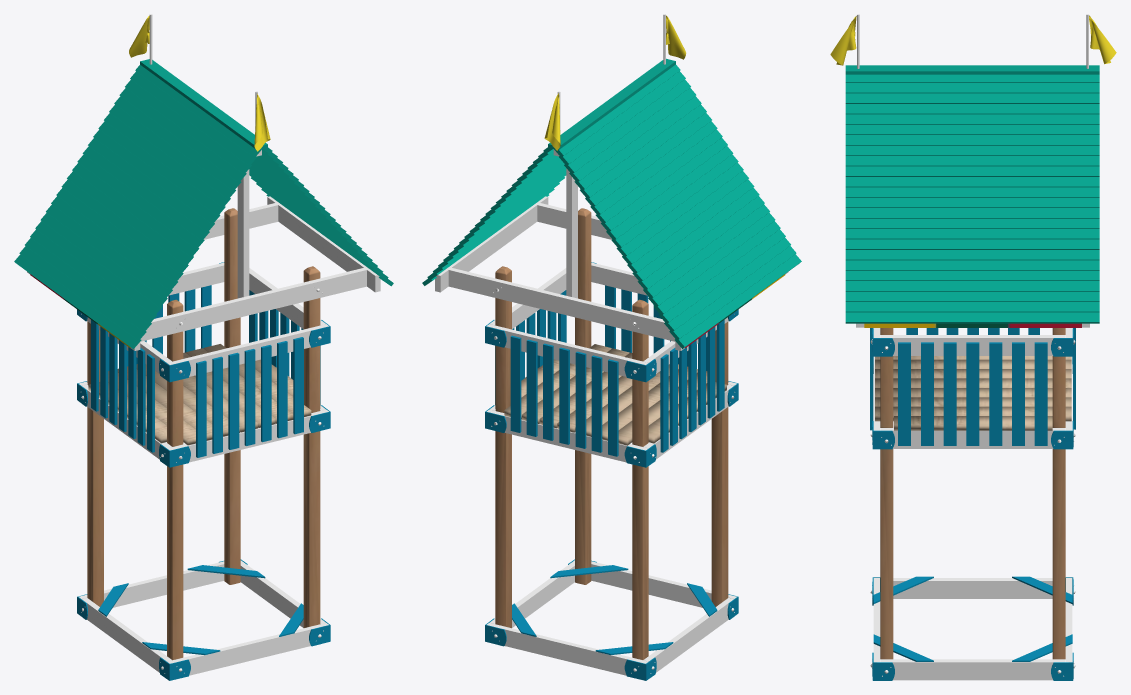
The picture shows the model from 3 angles, left to right: view 1: azimuth 30°, elevation 25°; view 2: azimuth 150°, elevation 25°; view 3: azimuth 270°, elevation 25°; orthographic projection. The views are drawn at different scales.
Parts seen in each view (by area): view 1: roof_poly, Cube833, Watch_tower_base_middle002, Watch_tower_base_bottom002, Cube833_1.001, Cube833_1, Watch_tower_corner_Top002,_colorize_, Watch_tower_joint002,_colorize_, roof_poly_1, Watch_tower_corner_Bottom002,_colorize_, fence,_colorize__27, fence,_colorize__2 (+12 smaller); view 2: roof_poly, Cube833, Watch_tower_base_middle002, Watch_tower_base_bottom002, Cube833_1.001, Cube833_1, Watch_tower_corner_Top002,_colorize_, Watch_tower_joint002,_colorize_, roof_poly_1, Watch_tower_corner_Bottom002,_colorize_, fence,_colorize__13, fence,_colorize__15 (+12 smaller); view 3: roof_poly, Watch_tower_base_bottom002, Cube833_1, Watch_tower_base_middle002, Cube833, roof_poly_1, Cube833_1.001, Watch_tower_corner_Top002,_colorize_, Watch_tower_joint002,_colorize_, fence,_colorize__11, fence,_colorize__24, fence,_colorize__8 (+8 smaller).
Boxes of the visible parts, x1=… form: roof_poly: x1=14, y1=65, x2=393, y2=348; Cube833: x1=27, y1=150, x2=380, y2=462; Watch_tower_base_middle002: x1=87, y1=384, x2=320, y2=660; Watch_tower_base_bottom002: x1=78, y1=560, x2=328, y2=675; Cube833_1.001: x1=87, y1=208, x2=320, y2=446; Cube833_1: x1=88, y1=344, x2=311, y2=445; Watch_tower_corner_Top002,_colorize_: x1=77, y1=262, x2=330, y2=467; Watch_tower_joint002,_colorize_: x1=98, y1=565, x2=303, y2=655; roof_poly_1: x1=140, y1=59, x2=267, y2=148; Watch_tower_corner_Bottom002,_colorize_: x1=77, y1=559, x2=330, y2=680; fence,_colorize__27: x1=244, y1=349, x2=255, y2=445; fence,_colorize__2: x1=228, y1=352, x2=239, y2=449; roof_poly: x1=422, y1=64, x2=801, y2=348; Cube833: x1=435, y1=149, x2=788, y2=462; Watch_tower_base_middle002: x1=495, y1=384, x2=728, y2=659; Watch_tower_base_bottom002: x1=487, y1=560, x2=736, y2=675; Cube833_1.001: x1=495, y1=208, x2=728, y2=446; Cube833_1: x1=504, y1=344, x2=726, y2=445; Watch_tower_corner_Top002,_colorize_: x1=485, y1=262, x2=738, y2=467; Watch_tower_joint002,_colorize_: x1=512, y1=565, x2=717, y2=655; roof_poly_1: x1=548, y1=58, x2=675, y2=149; Watch_tower_corner_Bottom002,_colorize_: x1=485, y1=559, x2=738, y2=680; fence,_colorize__13: x1=526, y1=339, x2=537, y2=436; fence,_colorize__15: x1=575, y1=351, x2=586, y2=448; roof_poly: x1=845, y1=74, x2=1099, y2=323; Watch_tower_base_bottom002: x1=870, y1=578, x2=1075, y2=680; Cube833_1: x1=875, y1=356, x2=1071, y2=430; Watch_tower_base_middle002: x1=880, y1=427, x2=1065, y2=659; Cube833: x1=856, y1=323, x2=1089, y2=448; roof_poly_1: x1=845, y1=65, x2=1099, y2=74; Cube833_1.001: x1=880, y1=328, x2=1065, y2=426; Watch_tower_corner_Top002,_colorize_: x1=872, y1=328, x2=1073, y2=449; Watch_tower_joint002,_colorize_: x1=873, y1=576, x2=1072, y2=661; fence,_colorize__11: x1=1034, y1=342, x2=1047, y2=445; fence,_colorize__24: x1=966, y1=342, x2=979, y2=445; fence,_colorize__8: x1=943, y1=342, x2=956, y2=445.
Bounding box in the file's own units: 2.52 × 5.27 × 2.19.
Materials: 9 (3 with a texture image).
